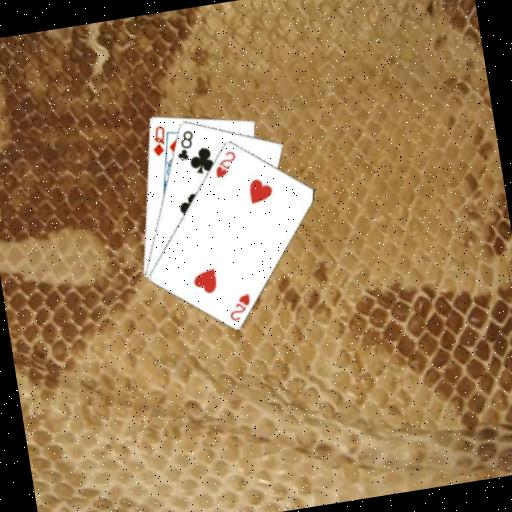2H: (223, 289, 254, 323), (209, 147, 240, 180)
8C: (170, 126, 198, 163)
QD: (145, 122, 169, 159)
